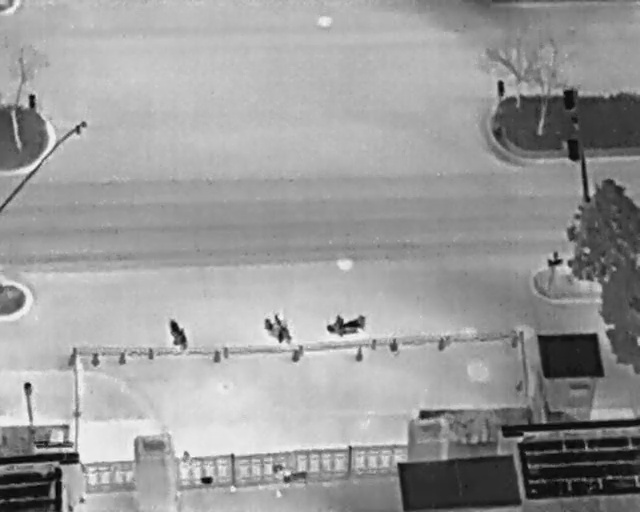Bicycle: (256, 303, 297, 351), (160, 313, 193, 354), (325, 313, 368, 336)
Person: (273, 467, 285, 484)
